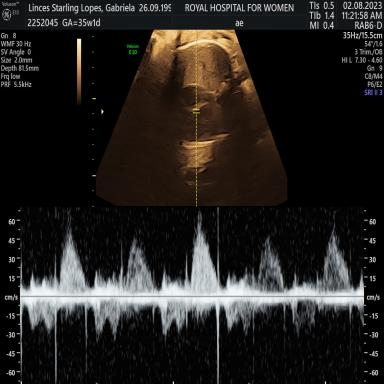Ultrasound-Waves: (30, 208, 360, 384)
